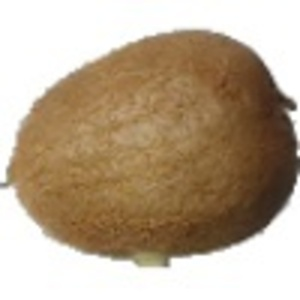kiwi: (4, 26, 300, 271)
